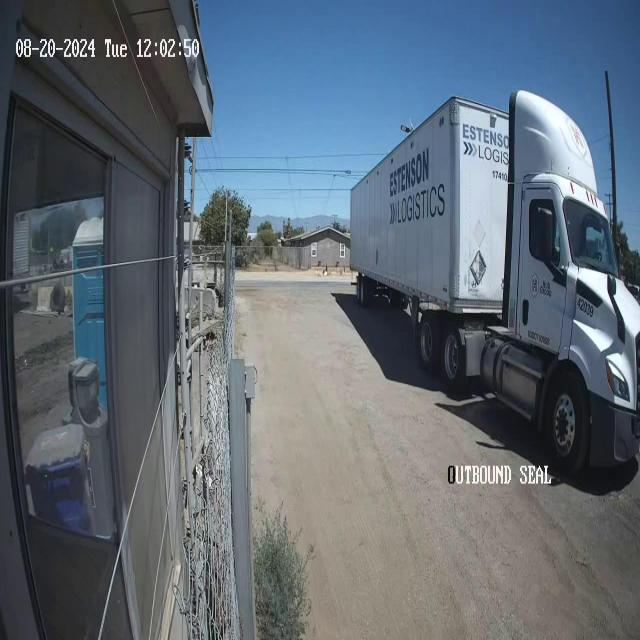CONTAINER: (348, 88, 511, 330)
